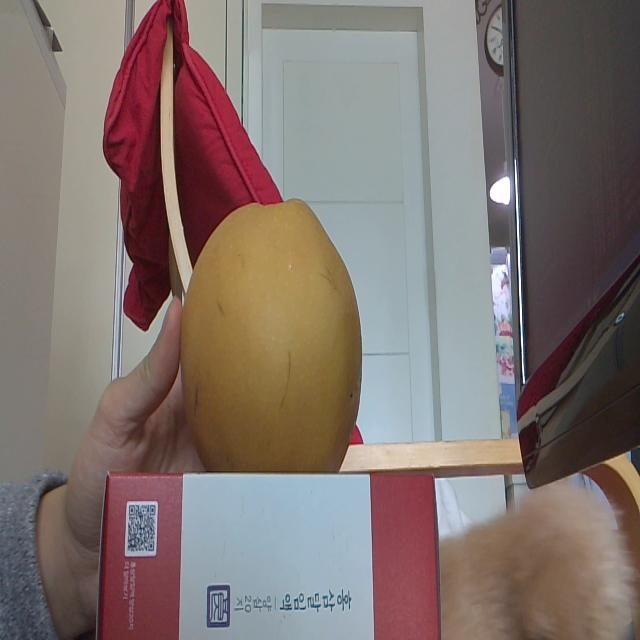pear: (181, 201, 361, 474)
